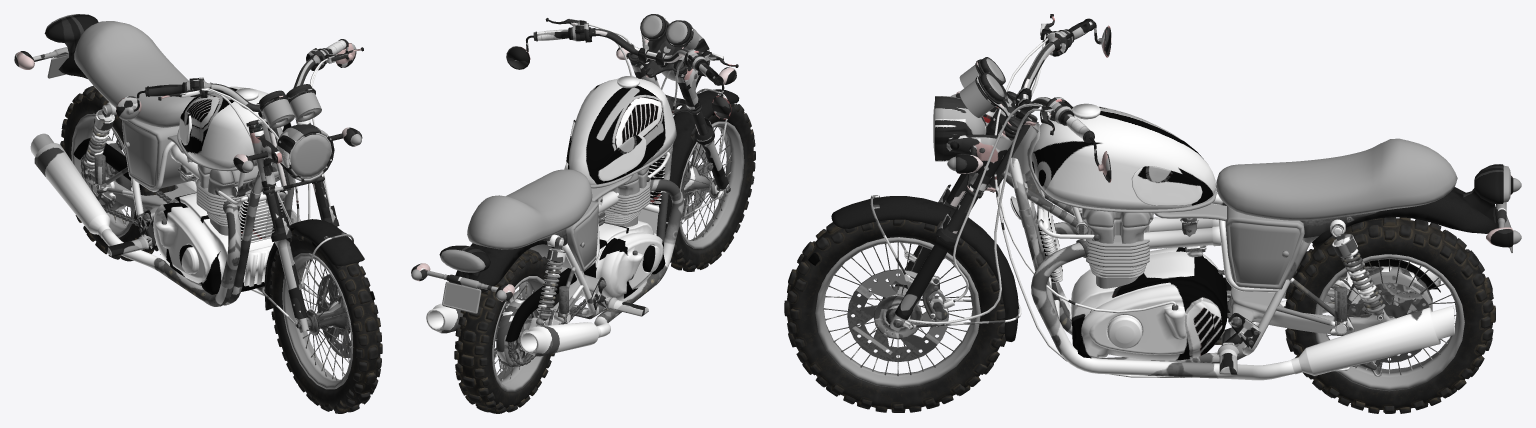
The model's file is bikeRazer_remapped.fbx.
3 renders of one model, left to right at view 1: azimuth 30°, elevation 25°; view 2: azimuth 150°, elevation 25°; view 3: azimuth 270°, elevation 25°, orthographic. The views are drawn at different scales.
Visible parts, largest first — view 1: muffler_spokes, tyres, handle, tank, seat, badge; view 2: tyres, muffler_spokes, tank, handle, seat, badge; view 3: tyres, muffler_spokes, tank, seat, handle, badge.
Part boxes in pixels (x1,y1,x2,y2): muffler_spokes: (30,102,353,380); tyres: (58,54,382,413); handle: (14,14,363,332); tank: (153,86,291,294); seat: (74,21,282,235); badge: (14,14,361,188); tyres: (454,89,755,413); muffler_spokes: (426,74,732,382); tank: (550,76,676,300); handle: (411,14,738,316); seat: (467,83,673,333); badge: (411,15,736,313); tyres: (784,187,1498,413); muffler_spokes: (823,122,1456,380); tank: (1031,103,1227,360); seat: (1027,124,1457,333); handle: (889,14,1513,377); badge: (933,58,1521,289).
Bounding box in the file's own units: 97.65 × 114 × 220.
